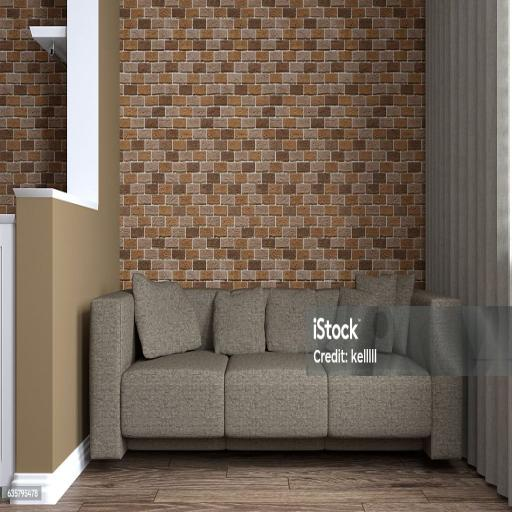back_cushion: (133, 274, 414, 358)
base: (128, 439, 422, 450)
left_arm: (407, 291, 462, 457)
right_arm: (121, 351, 432, 448), (90, 292, 135, 457)
seat_cushion: (121, 351, 432, 444)
stallion-sofa2: (90, 275, 464, 458)
